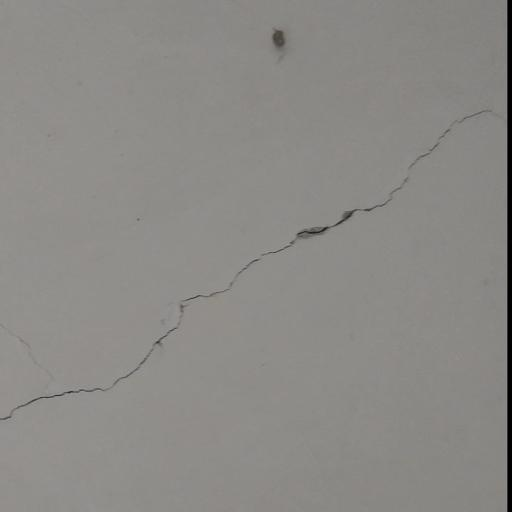major_crack: (2, 99, 504, 410)
